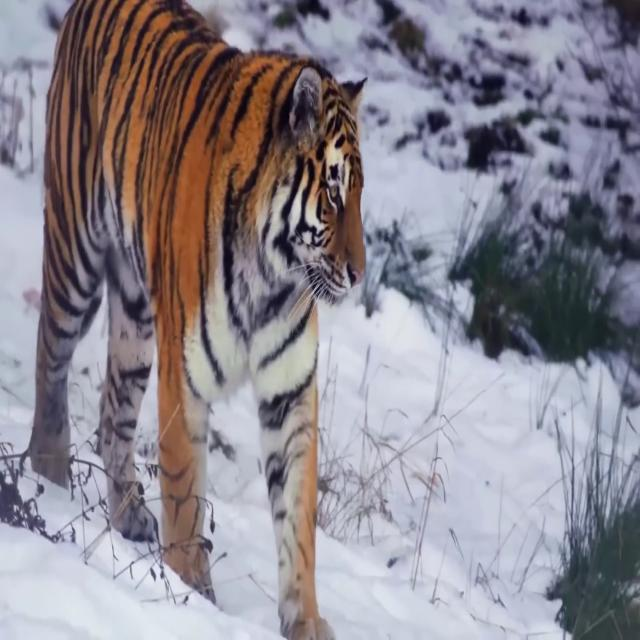tiger: (19, 0, 367, 640)
